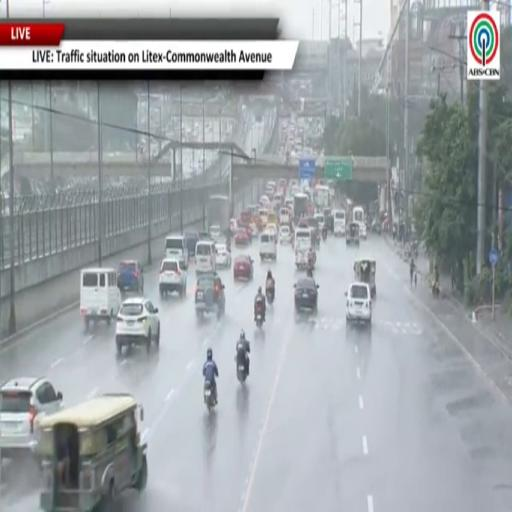bus: (314, 185, 330, 209)
car: (0, 377, 62, 459), (116, 297, 160, 354), (195, 272, 225, 318), (345, 282, 371, 324), (159, 259, 187, 297), (294, 277, 318, 313), (117, 261, 143, 293), (234, 254, 253, 280), (185, 232, 199, 257), (216, 244, 231, 267), (234, 228, 250, 246), (279, 225, 292, 244), (265, 223, 278, 241), (242, 224, 253, 243), (209, 226, 221, 242), (230, 218, 238, 236), (198, 231, 210, 239)
jeepney: (36, 394, 148, 511), (354, 259, 375, 298), (345, 222, 360, 246)
motorcycle: (204, 381, 216, 411), (236, 357, 247, 382), (255, 304, 264, 328), (266, 287, 274, 305), (432, 280, 440, 298), (322, 229, 327, 241)
truck: (206, 196, 230, 238), (294, 194, 308, 218)
